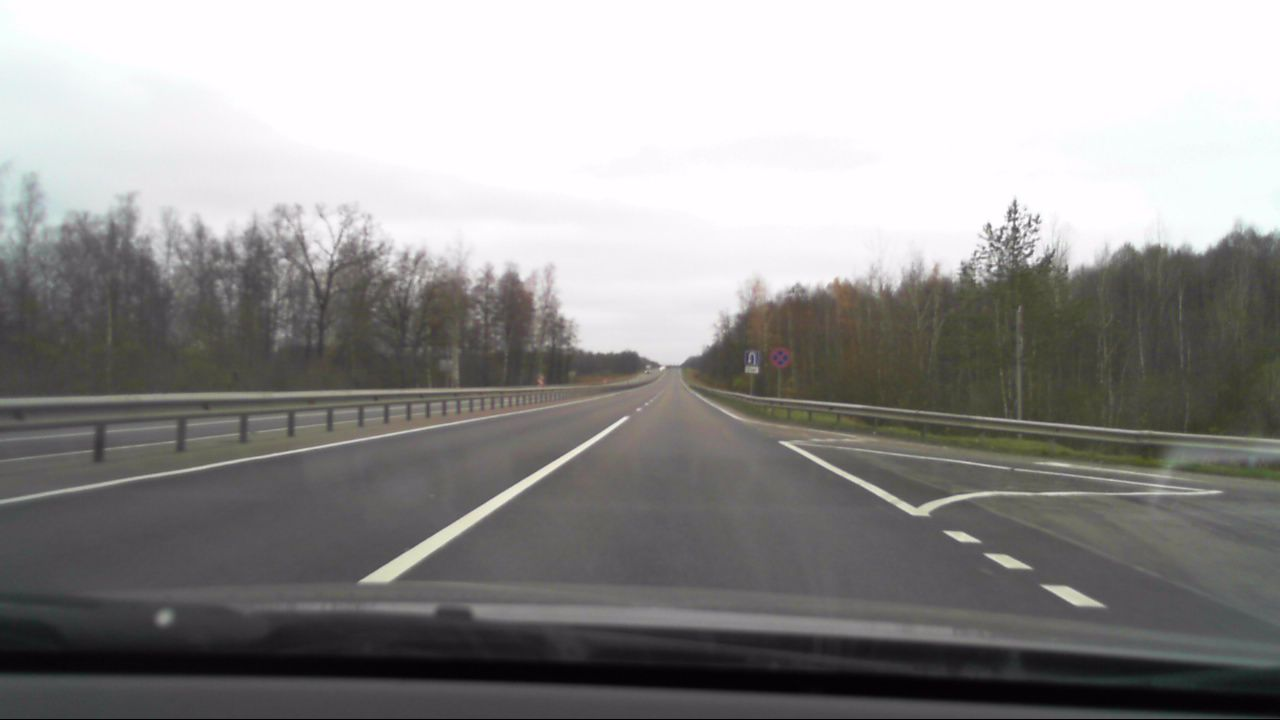No Parking: (770, 348, 791, 369)
